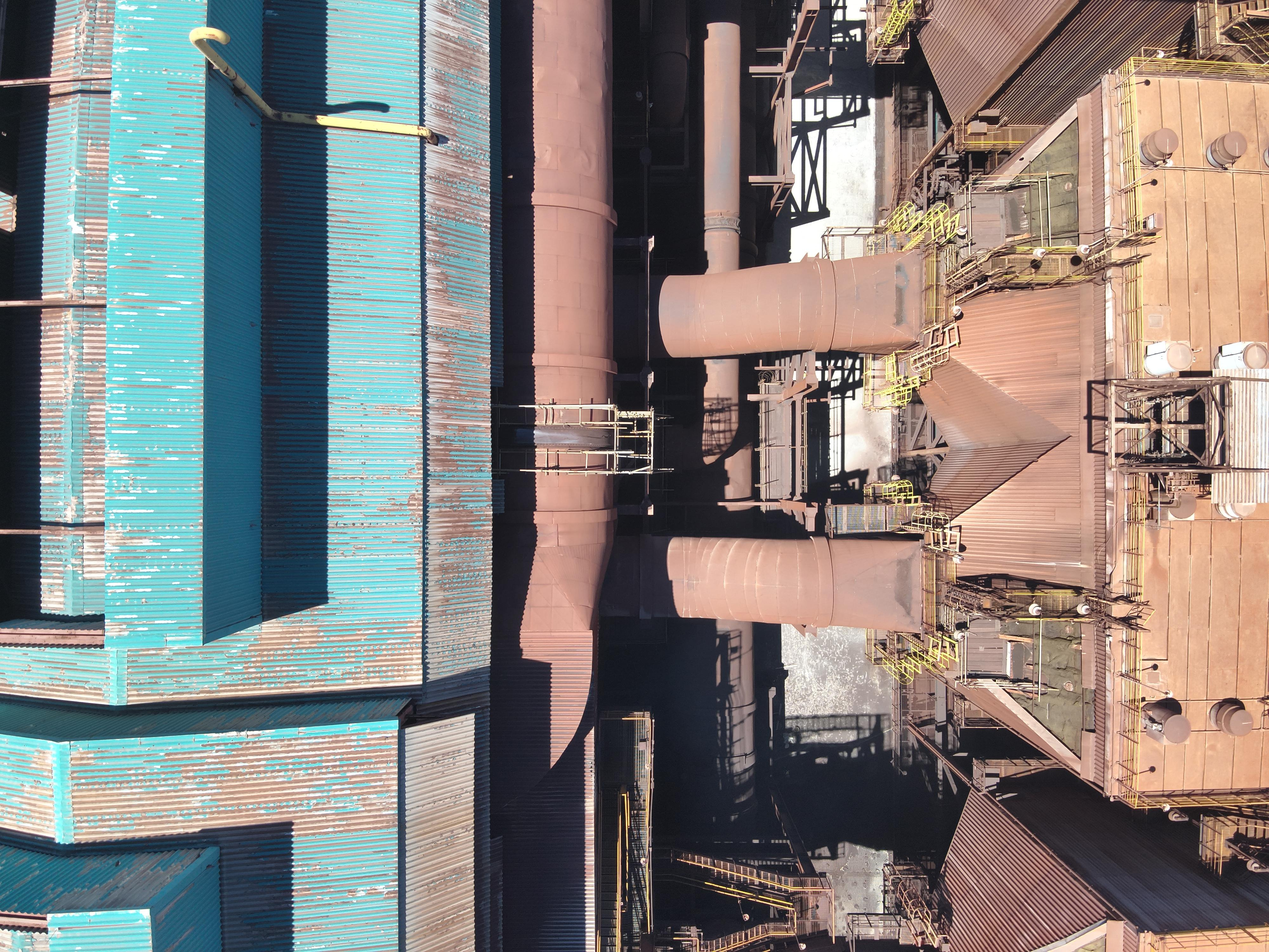Failures: (954, 610, 1093, 767), (981, 114, 1090, 260)
